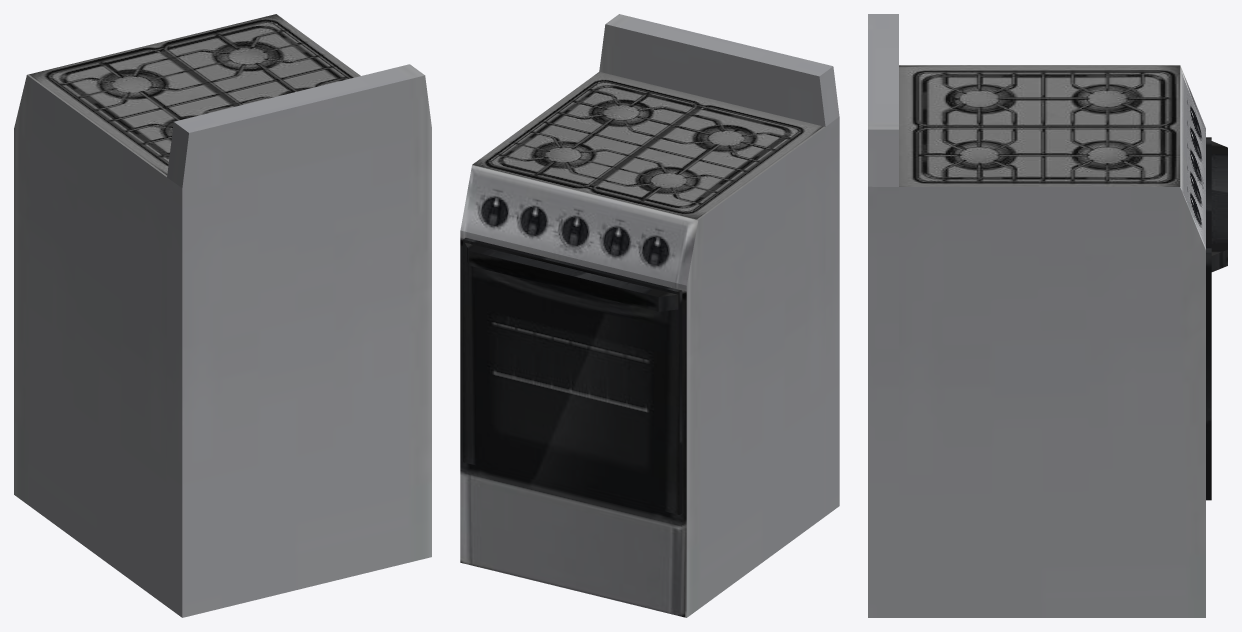
Rendered from stove_oven.fbx.
3 renders of one model, left to right at view 1: azimuth 30°, elevation 25°; view 2: azimuth 150°, elevation 25°; view 3: azimuth 270°, elevation 25°, orthographic. The views are drawn at different scales.
Parts seen in each view (by area): view 1: Stove_05; view 2: Stove_05, Stove_door_05; view 3: Stove_05, Stove_door_05.
Part boxes in pixels (x1,y1,x2,y2): Stove_05: [14, 14, 431, 617]; Stove_05: [460, 14, 839, 617]; Stove_door_05: [463, 238, 682, 514]; Stove_05: [868, 14, 1205, 617]; Stove_door_05: [1206, 137, 1227, 500].
Size of the model in its own units: 63.64 by 118 by 79.23.
Materials: 1 (1 with a texture image).
